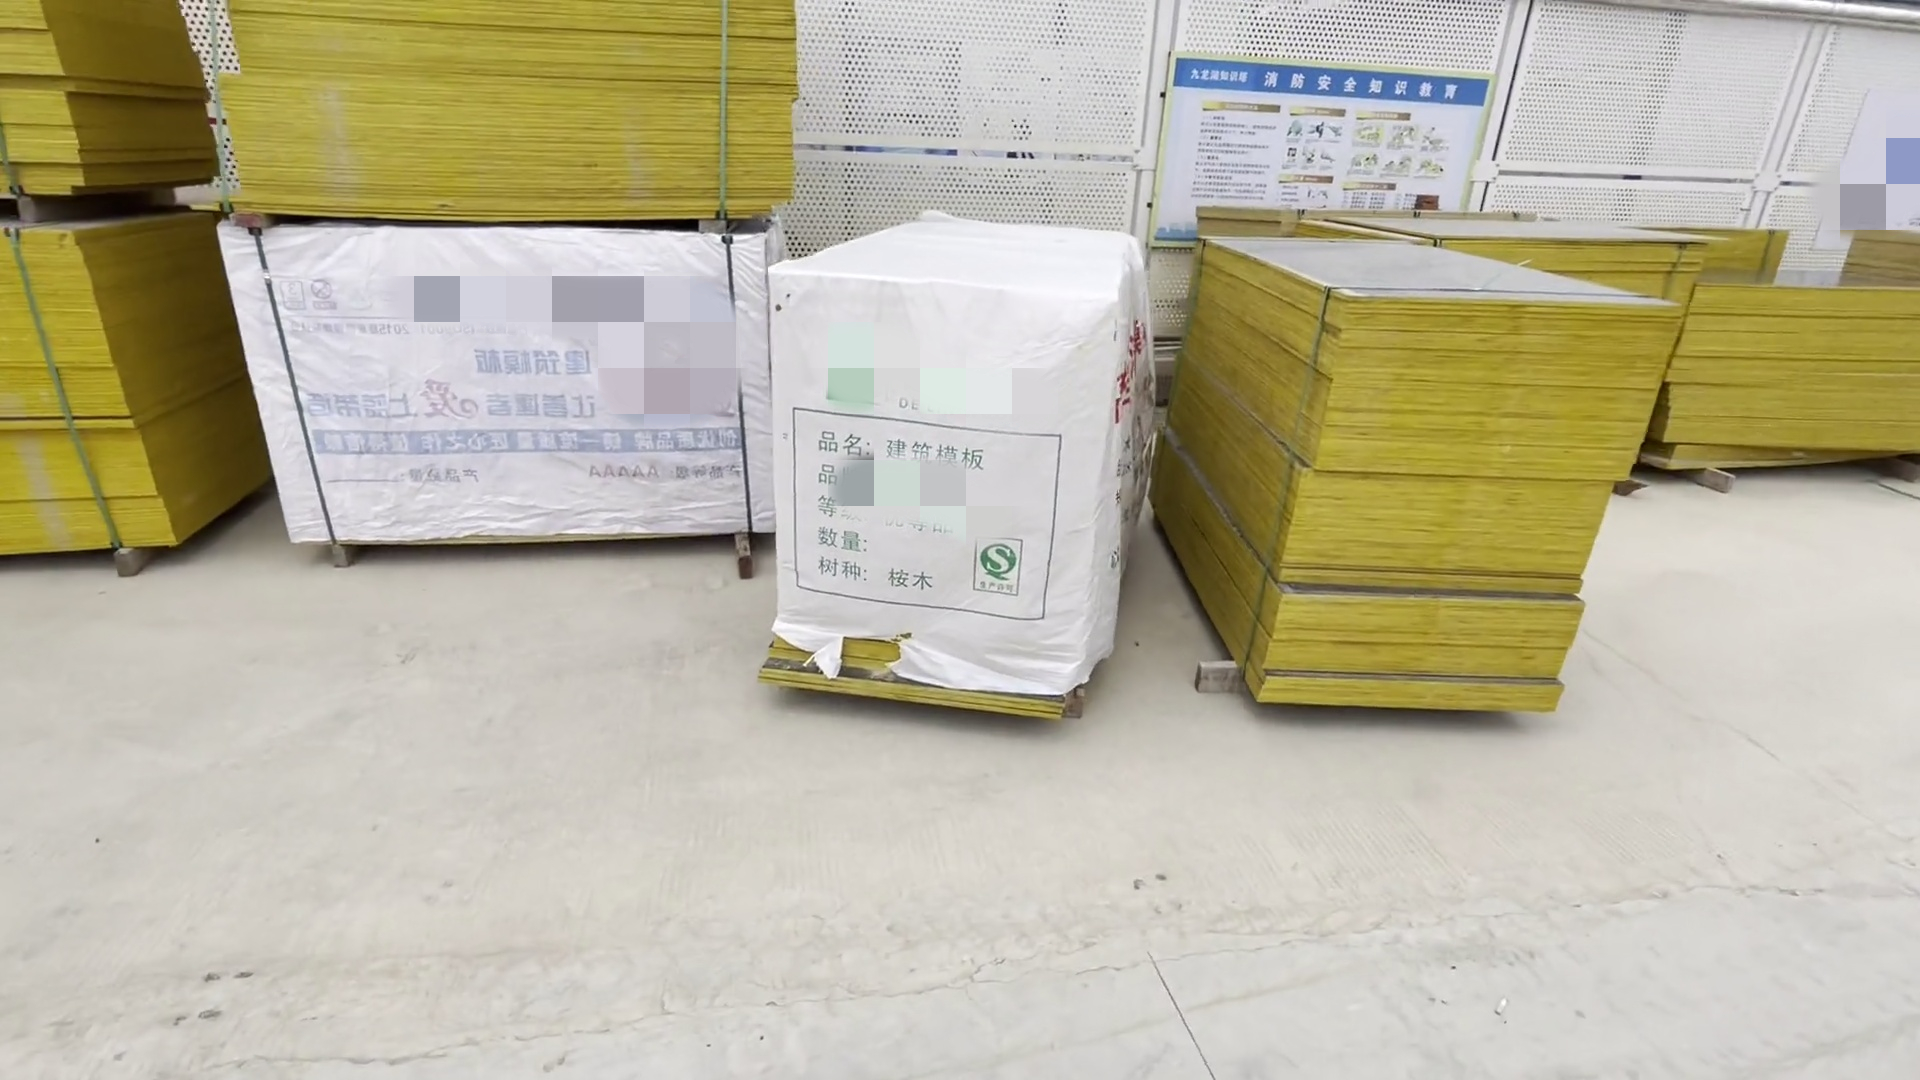board: (1203, 222, 1662, 717), (193, 9, 823, 237)
